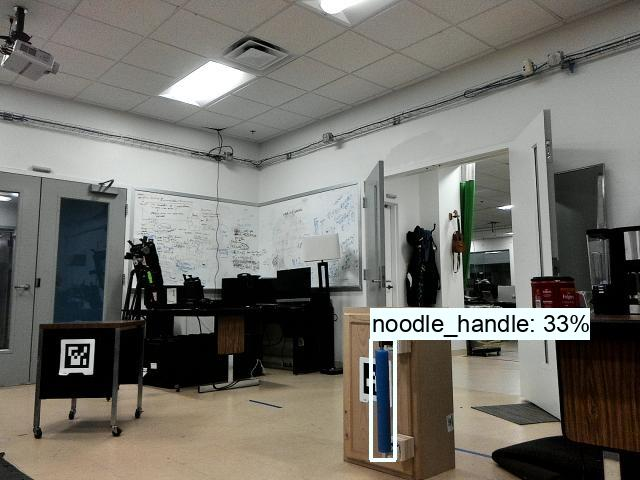noodle_handle: (371, 343, 396, 455)
